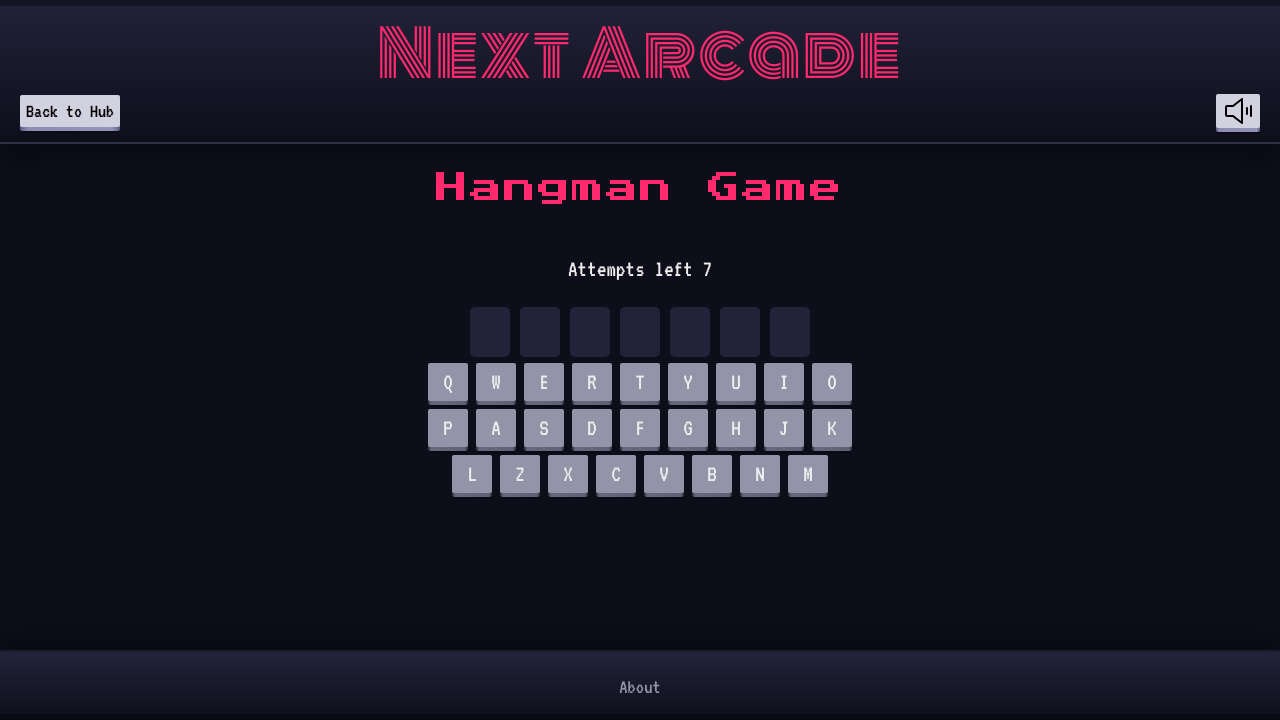
Test case: Hangman Game › can click virtual keyboard buttons
Click the button "A": (496, 432) [476,413,516,451]
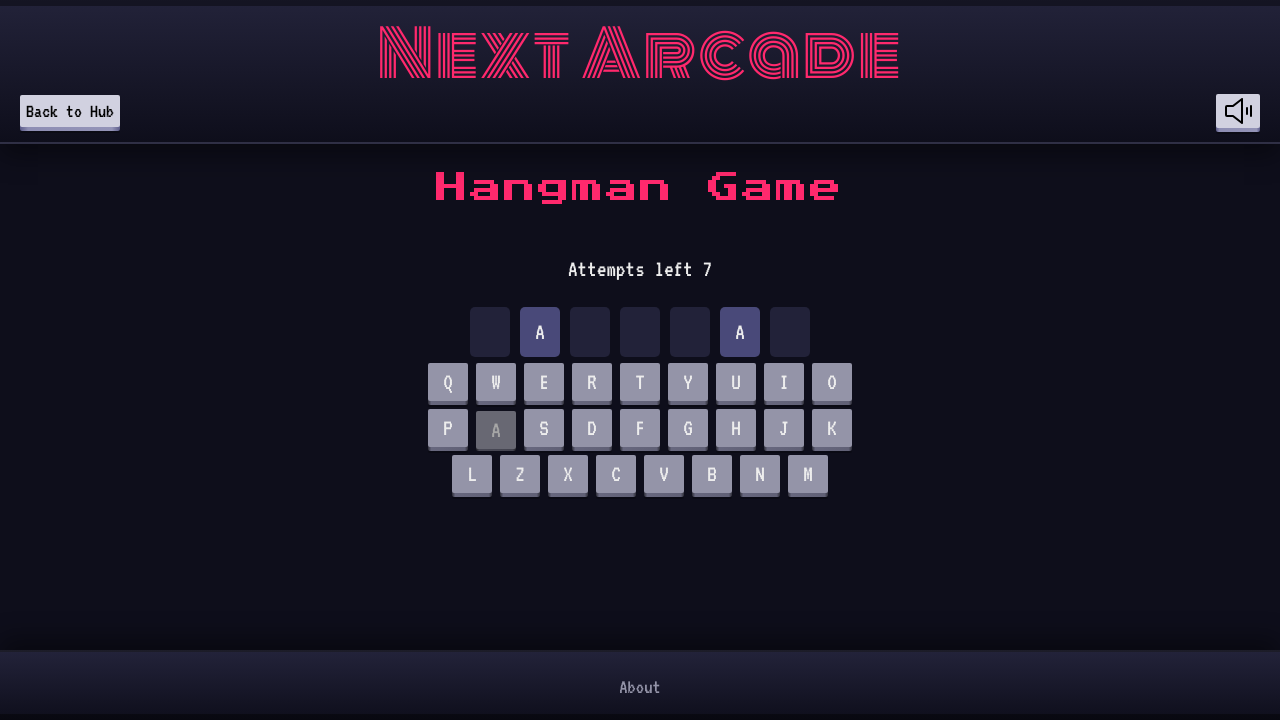
Now the button "A" is disabled, box [476,413,516,451]
